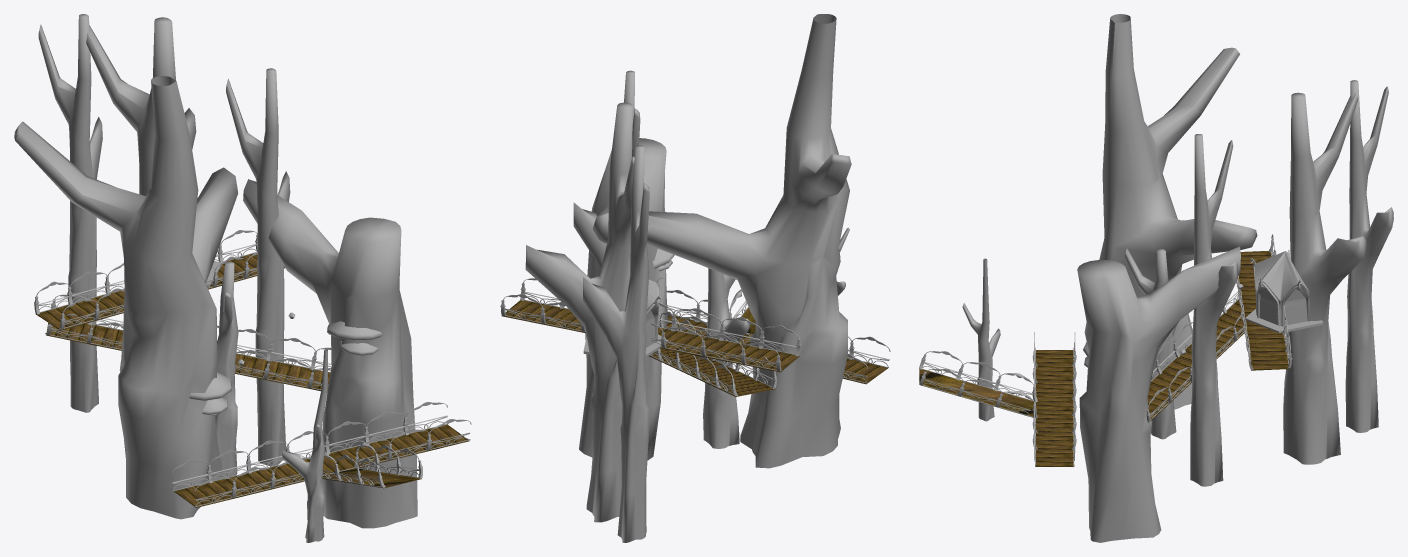
Rendered from fairyland_T_jonction.fbx.
3 renders of one model, left to right at view 1: azimuth 30°, elevation 25°; view 2: azimuth 150°, elevation 25°; view 3: azimuth 270°, elevation 25°, orthographic. The views are drawn at different scales.
Parts seen in each view (by area): view 1: GiantTree, pCylinder15, GiantTree3, GiantTree4, GiantTree1, pCube190, GiantTree5, pCube526, GiantTree6, pCube534, pCube184, pCylinder42 (+1 smaller); view 2: GiantTree, GiantTree1, GiantTree4, pCylinder15, GiantTree5, pCube534, pCube526, GiantTree3, pCube190, polySurface248; view 3: pCylinder15, GiantTree, GiantTree1, GiantTree4, GiantTree3, pCube190, polySurface248, pCube534, pCube526, GiantTree5, GiantTree6, pCube184.
Part boxes in pixels (bbox=[...]): GiantTree: bbox=[14, 76, 238, 519]; pCylinder15: bbox=[243, 179, 417, 528]; GiantTree3: bbox=[226, 68, 290, 465]; GiantTree4: bbox=[38, 14, 102, 412]; GiantTree1: bbox=[86, 17, 196, 195]; pCube190: bbox=[174, 424, 469, 507]; GiantTree5: bbox=[215, 261, 238, 477]; pCube526: bbox=[46, 323, 330, 391]; GiantTree6: bbox=[282, 349, 327, 542]; pCube534: bbox=[36, 253, 284, 330]; pCube184: bbox=[322, 468, 421, 488]; pCylinder42: bbox=[327, 321, 383, 339]; GiantTree: bbox=[647, 14, 851, 468]; GiantTree1: bbox=[525, 102, 634, 522]; GiantTree4: bbox=[583, 145, 649, 542]; pCylinder15: bbox=[579, 138, 668, 460]; GiantTree5: bbox=[703, 268, 750, 448]; pCube534: bbox=[502, 300, 799, 372]; pCube526: bbox=[649, 348, 775, 396]; GiantTree3: bbox=[573, 70, 640, 269]; pCube190: bbox=[666, 315, 887, 384]; polySurface248: bbox=[583, 276, 668, 357]; pCylinder15: bbox=[1077, 246, 1240, 542]; GiantTree: bbox=[1099, 14, 1257, 409]; GiantTree1: bbox=[1283, 92, 1366, 464]; GiantTree4: bbox=[1345, 80, 1393, 432]; GiantTree3: bbox=[1190, 134, 1238, 486]; pCube190: bbox=[1035, 350, 1074, 466]; polySurface248: bbox=[1245, 250, 1323, 333]; pCube534: bbox=[1237, 251, 1290, 370]; pCube526: bbox=[1147, 300, 1244, 420]; GiantTree5: bbox=[1124, 248, 1176, 439]; GiantTree6: bbox=[962, 258, 1000, 421]; pCube184: bbox=[919, 369, 1033, 417].
Size of the model in its own units: 4625 by 6149 by 6263.
